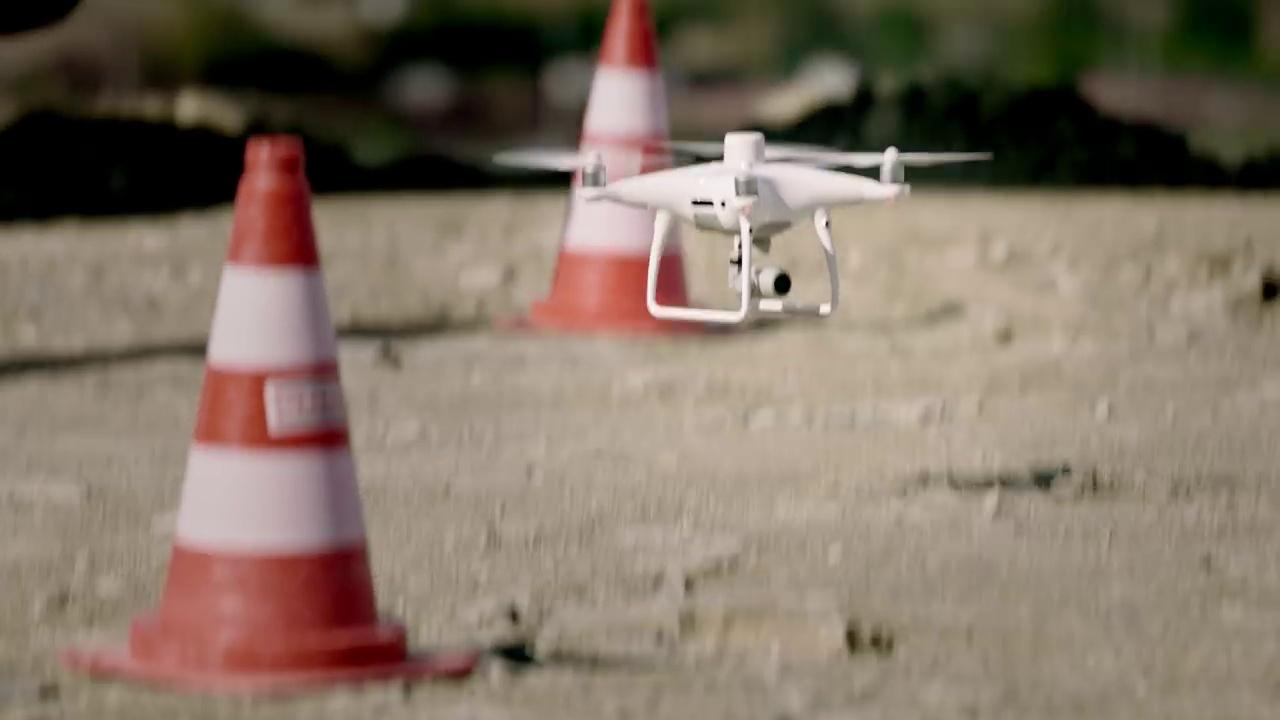drone: (491, 127, 993, 322)
